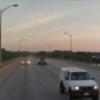cars: (60, 68, 99, 100)
